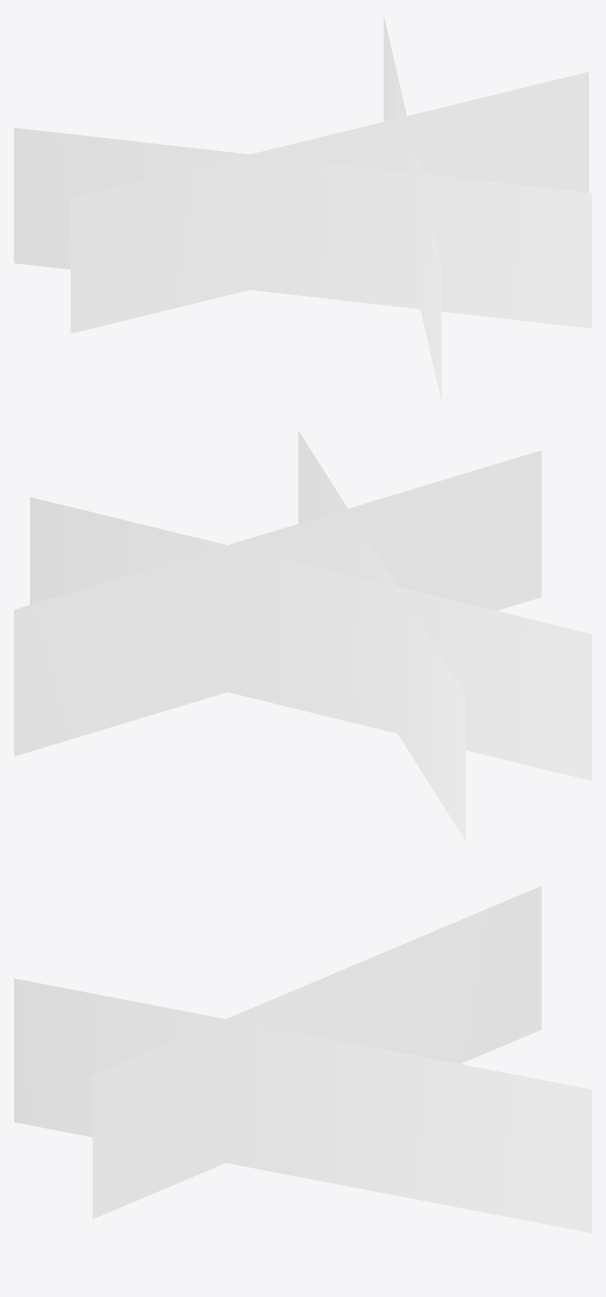
File: SM_Env_Grass_Short_Clump_01.glb
3 renders of one model, top to bottom at view 1: azimuth 30°, elevation 25°; view 2: azimuth 150°, elevation 25°; view 3: azimuth 270°, elevation 25°, orthographic. The views are drawn at different scales.
Visible parts, largest first — view 1: SM_Env_Grass_Short_Clump_01_LOD0; view 2: SM_Env_Grass_Short_Clump_01_LOD0; view 3: SM_Env_Grass_Short_Clump_01_LOD0.
Boxes of the visible parts, x1,y1,x2,y2 form: SM_Env_Grass_Short_Clump_01_LOD0: (14,15,591,400); SM_Env_Grass_Short_Clump_01_LOD0: (14,431,591,840); SM_Env_Grass_Short_Clump_01_LOD0: (14,886,591,1232).
Size of what is drawn, in the model's own units: 1 by 0.25 by 0.9104.
1 material, 1 textured.
